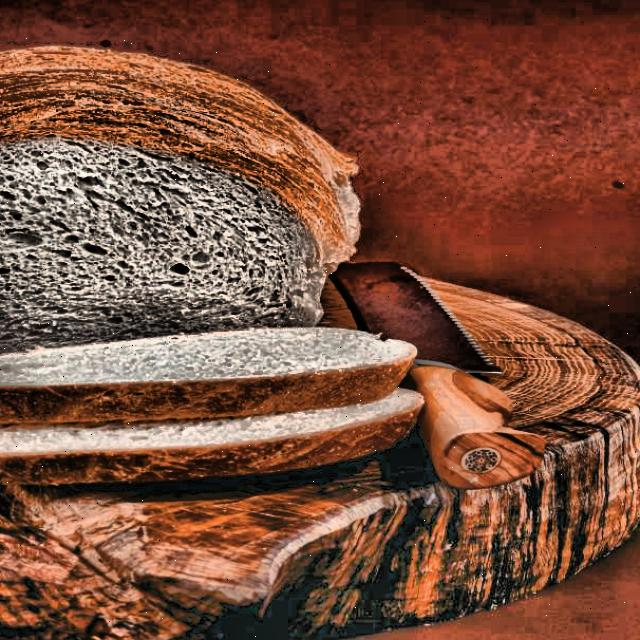knife: (315, 232, 549, 494)
